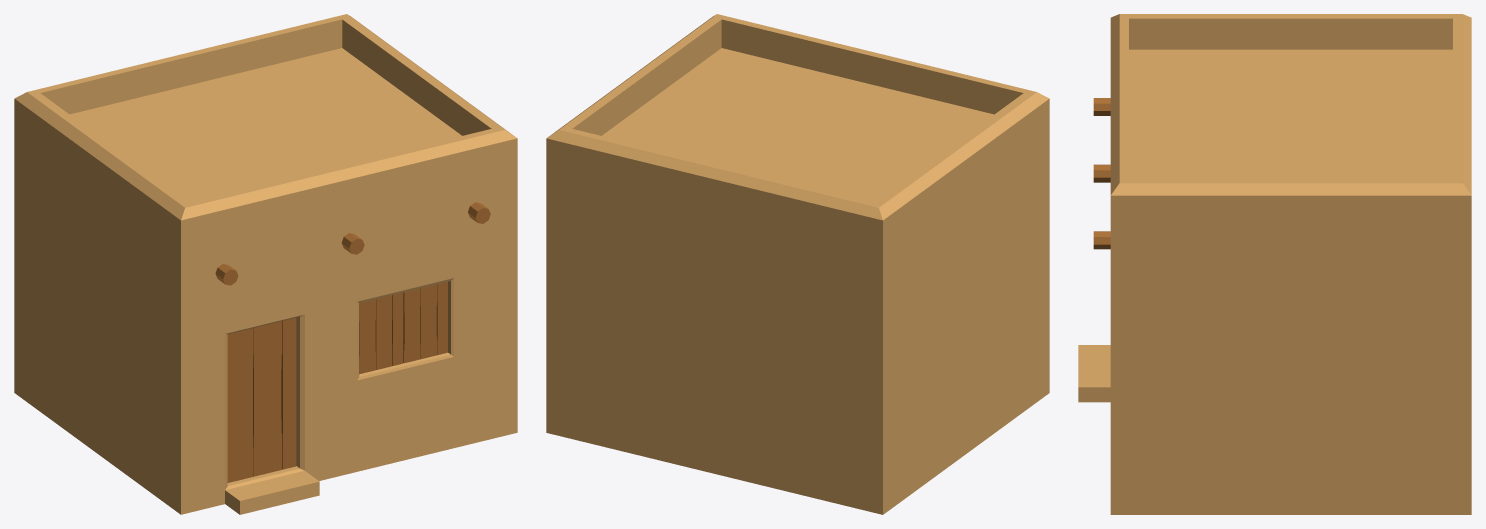
File: Temple1.fbx
3 renders of one model, left to right at view 1: azimuth 30°, elevation 25°; view 2: azimuth 150°, elevation 25°; view 3: azimuth 270°, elevation 25°, orthographic. The views are drawn at different scales.
Parts seen in each view (by area): view 1: Temple 1; view 2: Temple 1; view 3: Temple 1.
Part boxes in pixels (bbox=[...]): Temple 1: bbox=[14, 14, 517, 514]; Temple 1: bbox=[546, 14, 1049, 514]; Temple 1: bbox=[1078, 14, 1471, 514].
Bounding box in the file's own units: 700 × 654 × 600.
